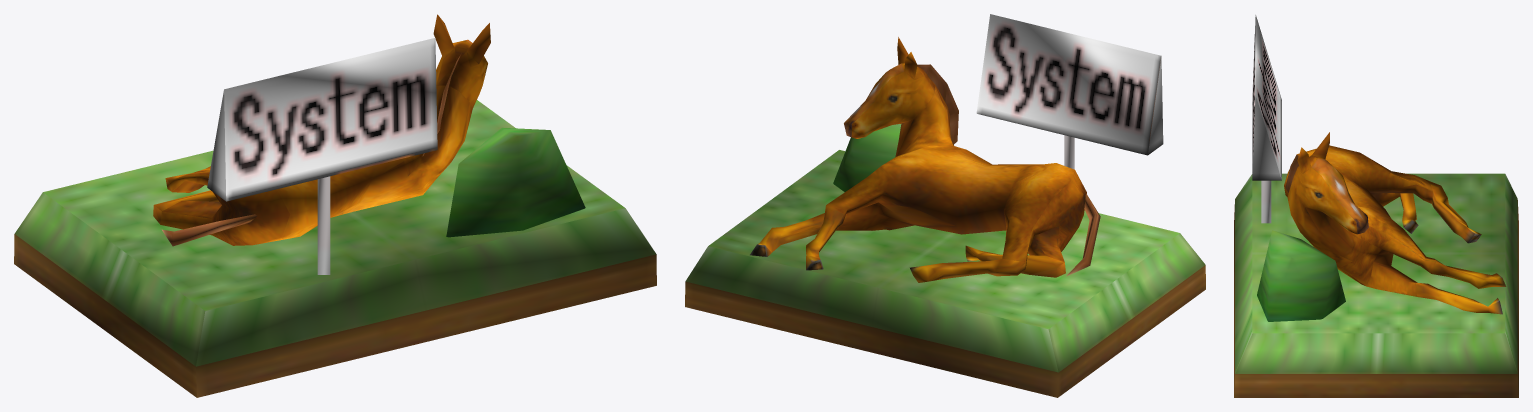
The model's file is gr8system.ico.obj.
3 views of the same model, side by side, from view 1: azimuth 30°, elevation 25°; view 2: azimuth 150°, elevation 25°; view 3: azimuth 270°, elevation 25° (orthographic). The views are drawn at different scales.
Bounding box in the file's own units: 4.84 × 2.9 × 3.33.
1 material, 1 textured.
